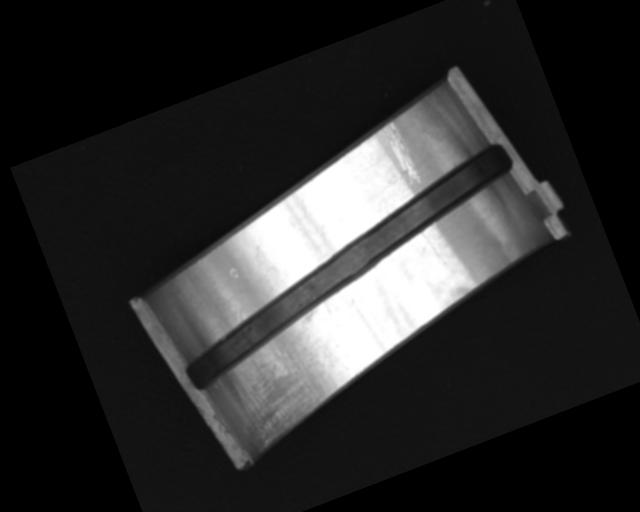bruise: (228, 265, 240, 280)
gap: (149, 139, 550, 393)
nick: (381, 116, 424, 190), (420, 224, 449, 269)
scratch: (206, 304, 361, 458)
